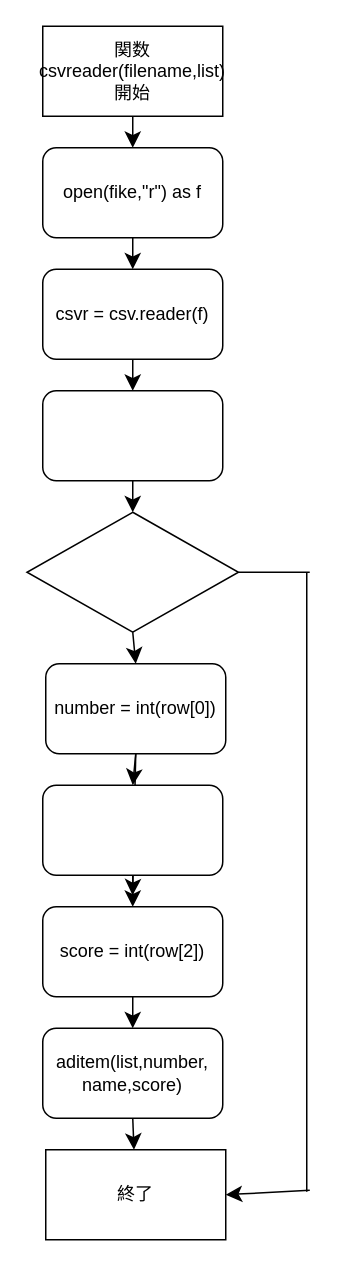
Some shapes in this 338 by 1266 pixel diagram are drawn without their labels. Each missing label, with the centre of its shape:
"for row in csvr" goes at [132,571].
"name = str(row[1])" goes at [132,829].
"next(csvr)" goes at [132,435].
